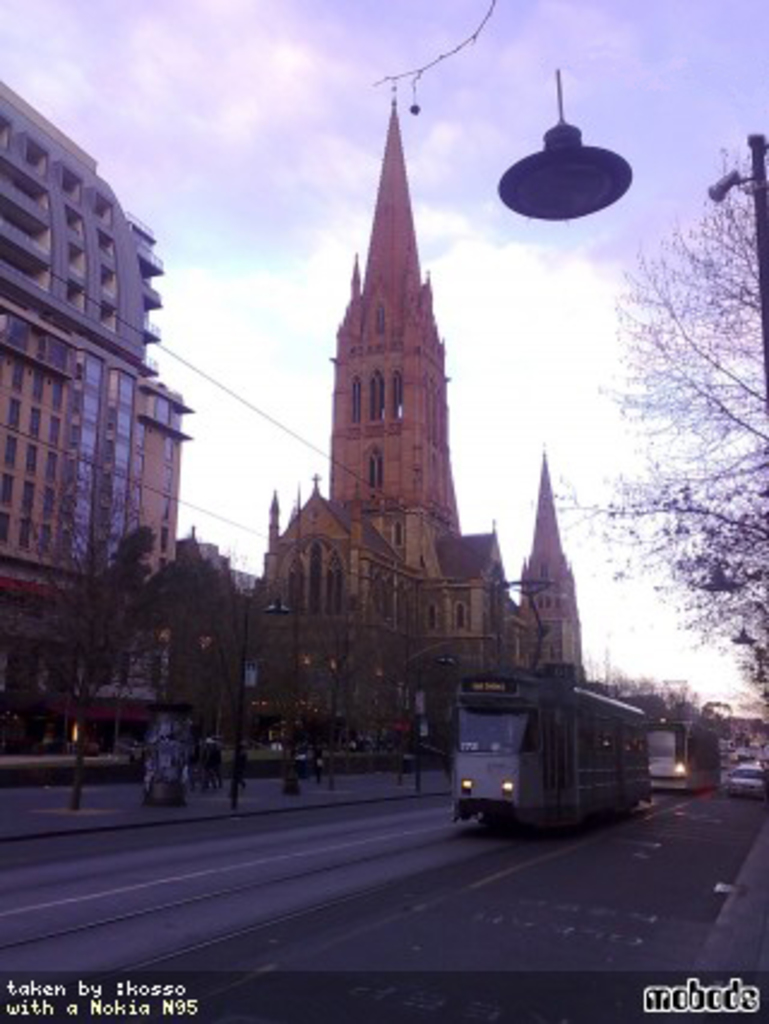train: (451, 661, 651, 838)
